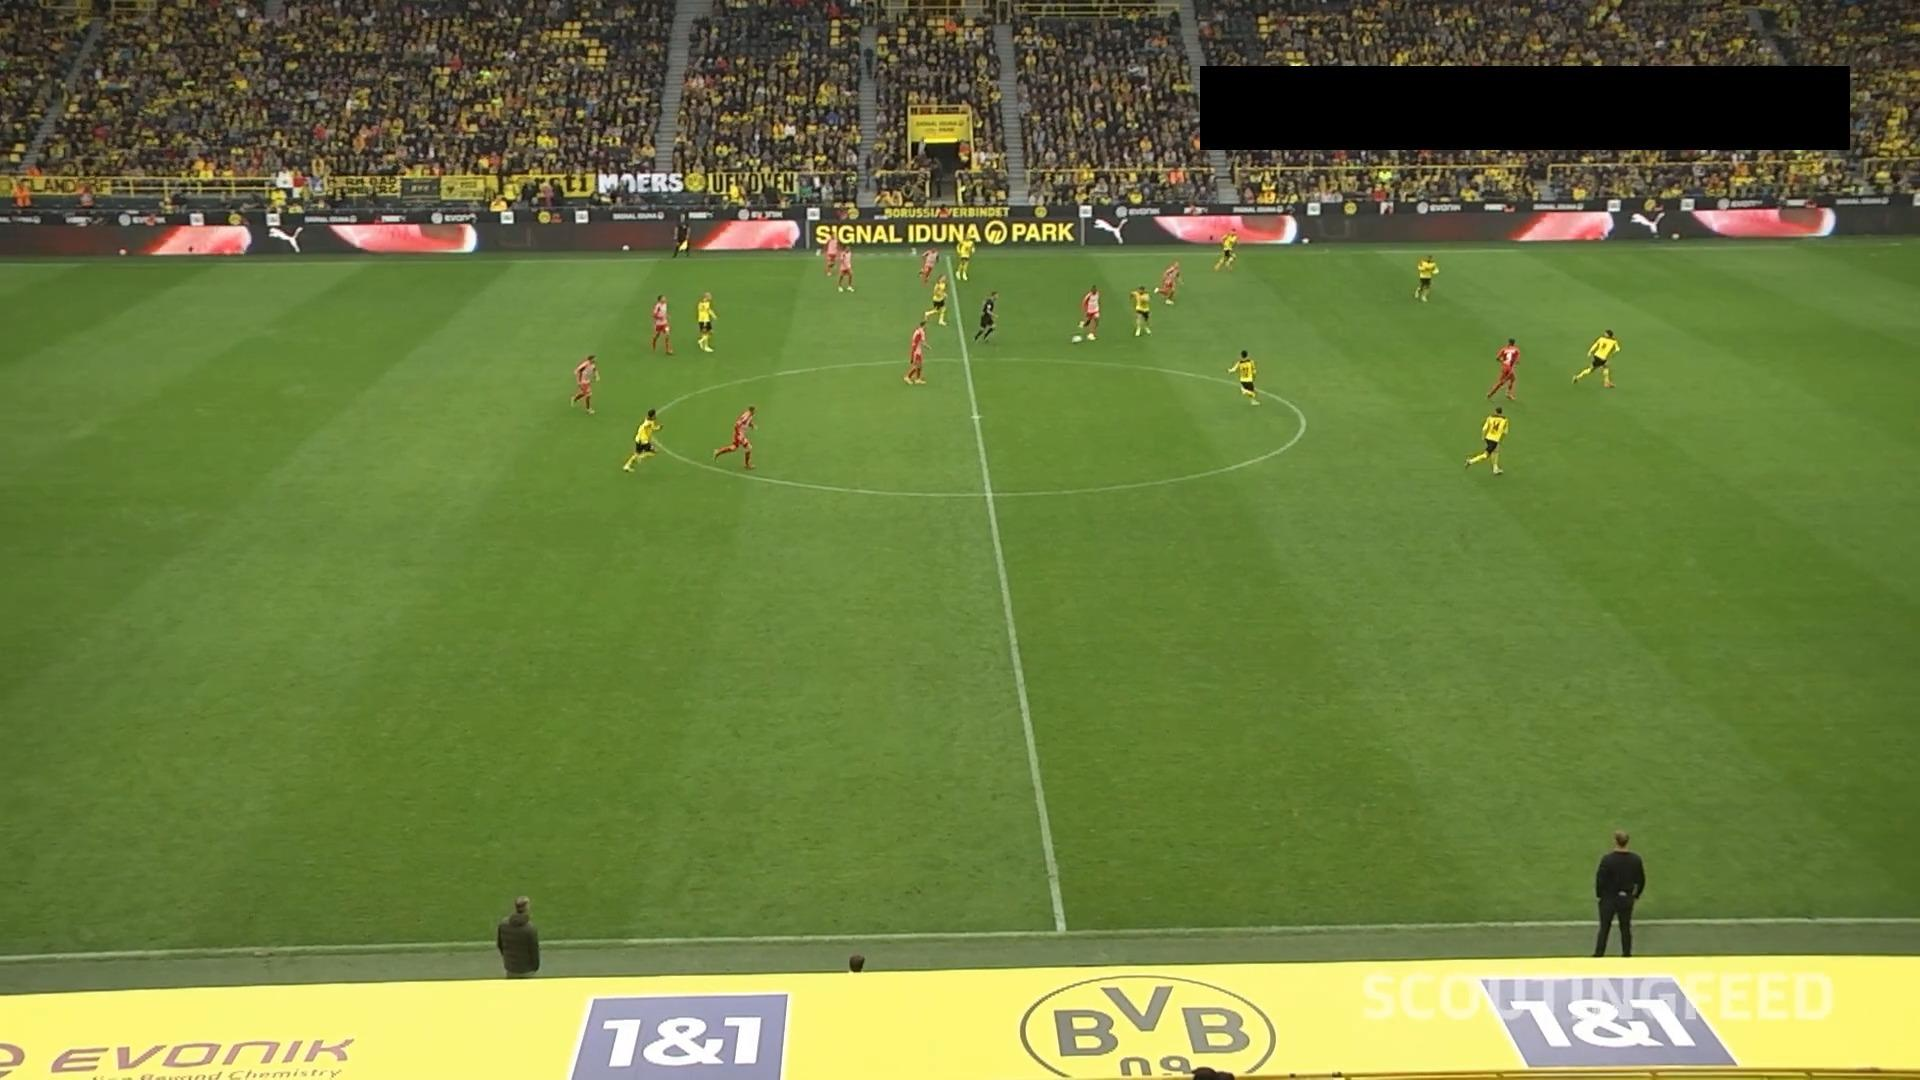ball: (1071, 334, 1084, 344)
